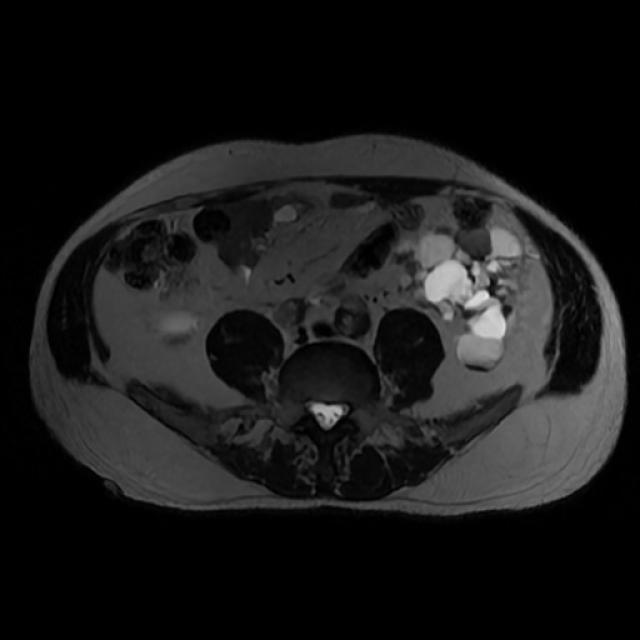sag: (154, 309, 201, 345)
sol: (391, 226, 525, 370)
